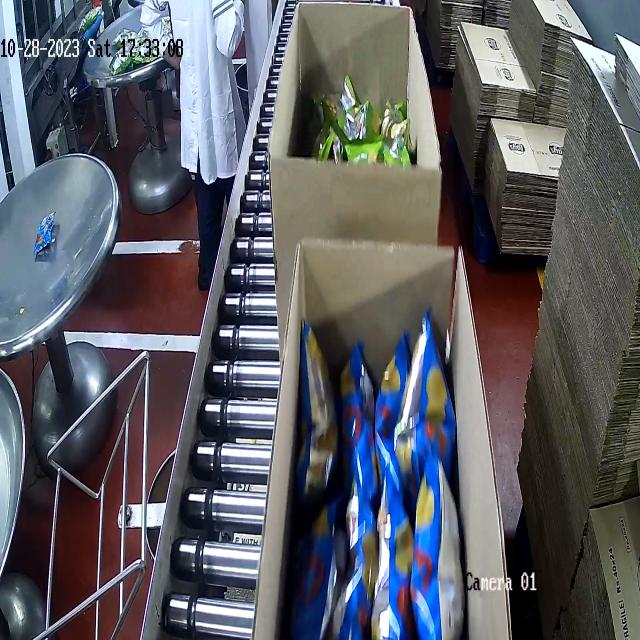PAPRIKA: (296, 309, 470, 640)
YOGURT_HERB: (294, 74, 418, 159)
